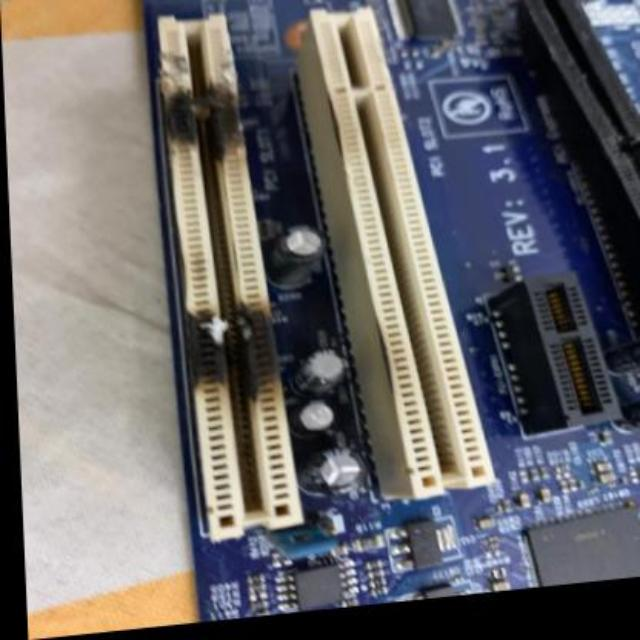PCB: (136, 1, 640, 624)
